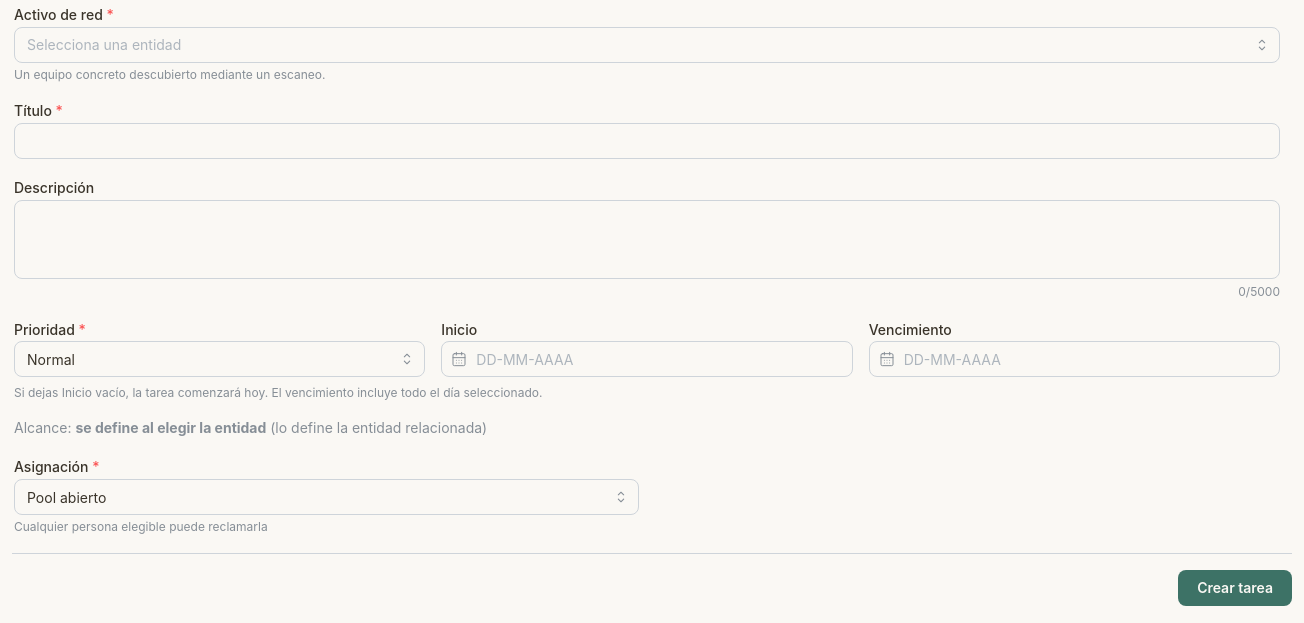
Test case: searches related entities on the server and shows the chosen one by id
In the field with placeholder "Selecciona una entidad": [647, 45] box [14, 27, 1280, 63], type "servidor"
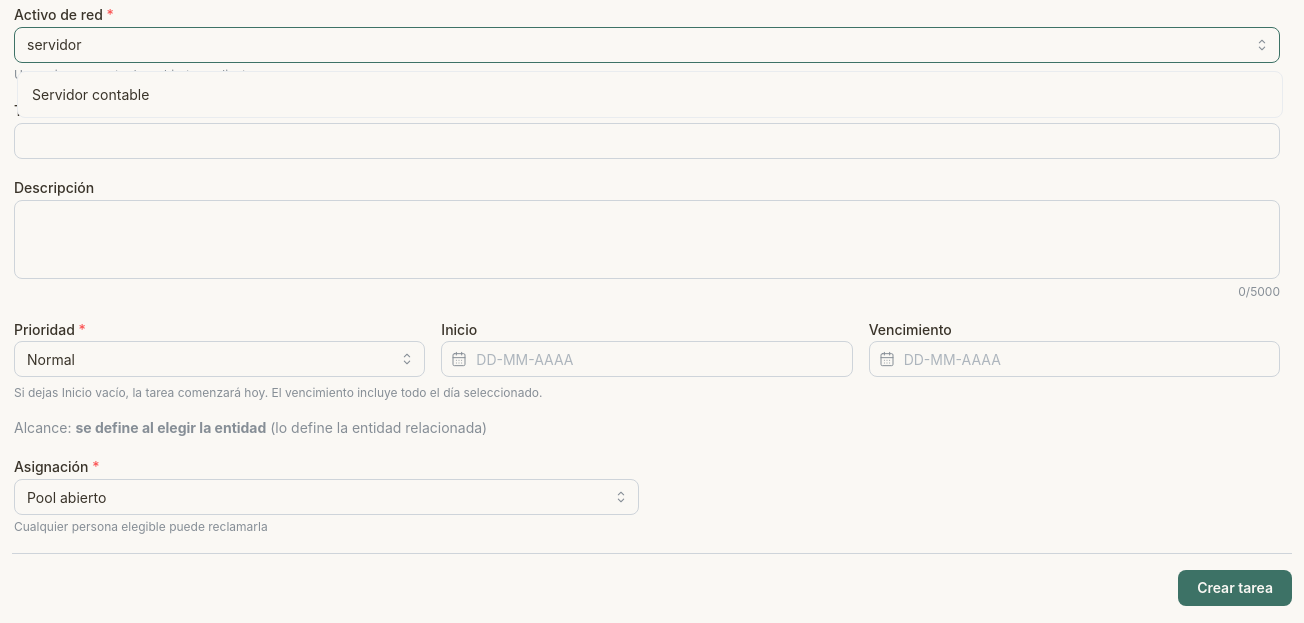
Click the option "Servidor contable": [91, 94] box [32, 86, 149, 103]
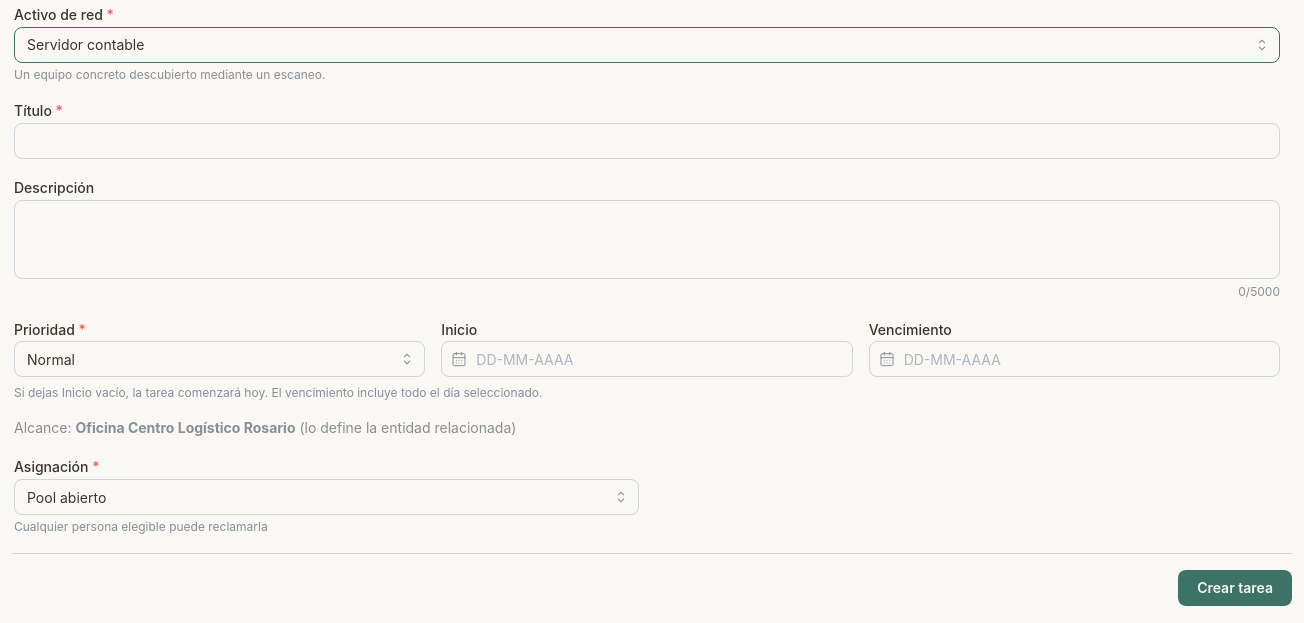
Result: the field with placeholder "Selecciona una entidad" holds "Servidor contable" at [14, 27, 1280, 63]
